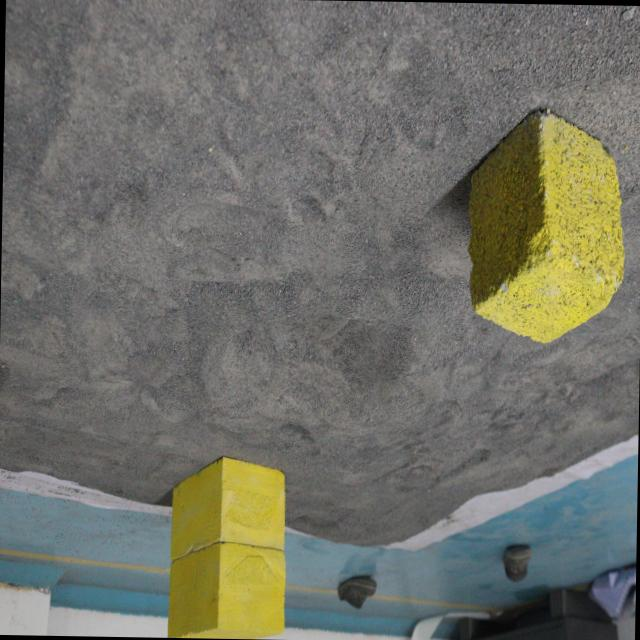box: (458, 95, 619, 364), (168, 458, 294, 640)
crater: (191, 288, 440, 457)
